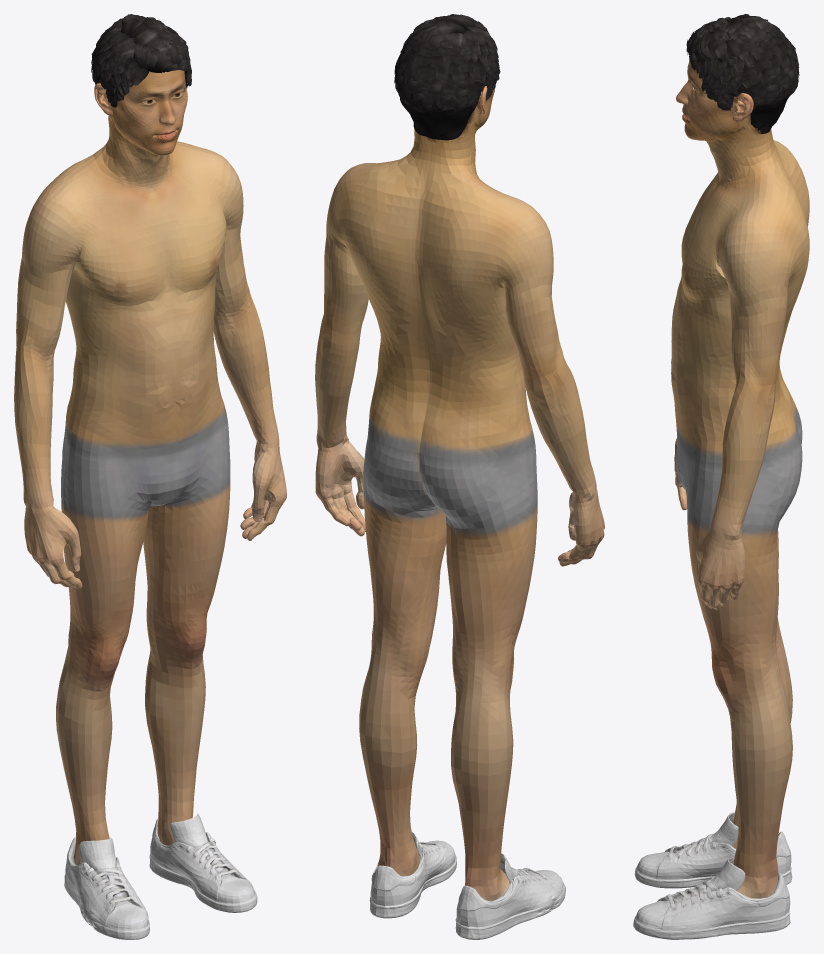
The model's file is man.obj.
3 views of the same model, side by side, from view 1: azimuth 30°, elevation 25°; view 2: azimuth 150°, elevation 25°; view 3: azimuth 270°, elevation 25° (orthographic). The views are drawn at different scales.
Bounding box in the file's own units: 0.5093 × 1.62 × 0.2932.
1 material, 1 textured.
